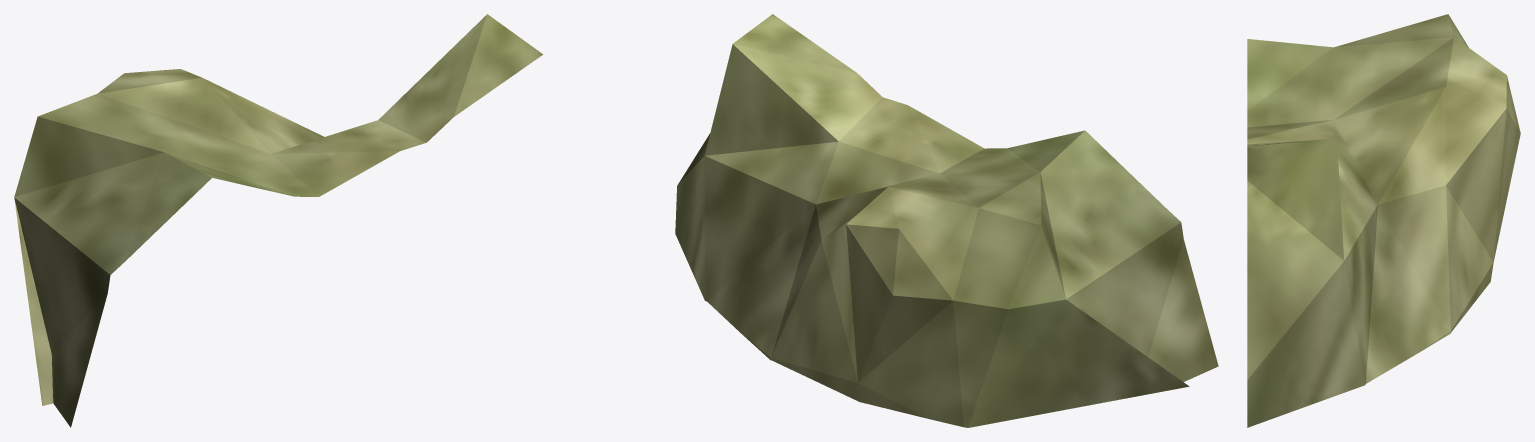
The picture shows the model from 3 angles, left to right: view 1: azimuth 30°, elevation 25°; view 2: azimuth 150°, elevation 25°; view 3: azimuth 270°, elevation 25°; orthographic projection. The views are drawn at different scales.
Bounding box in the file's own units: 0.8189 × 0.359 × 0.3704.
Materials: 1 (1 with a texture image).
